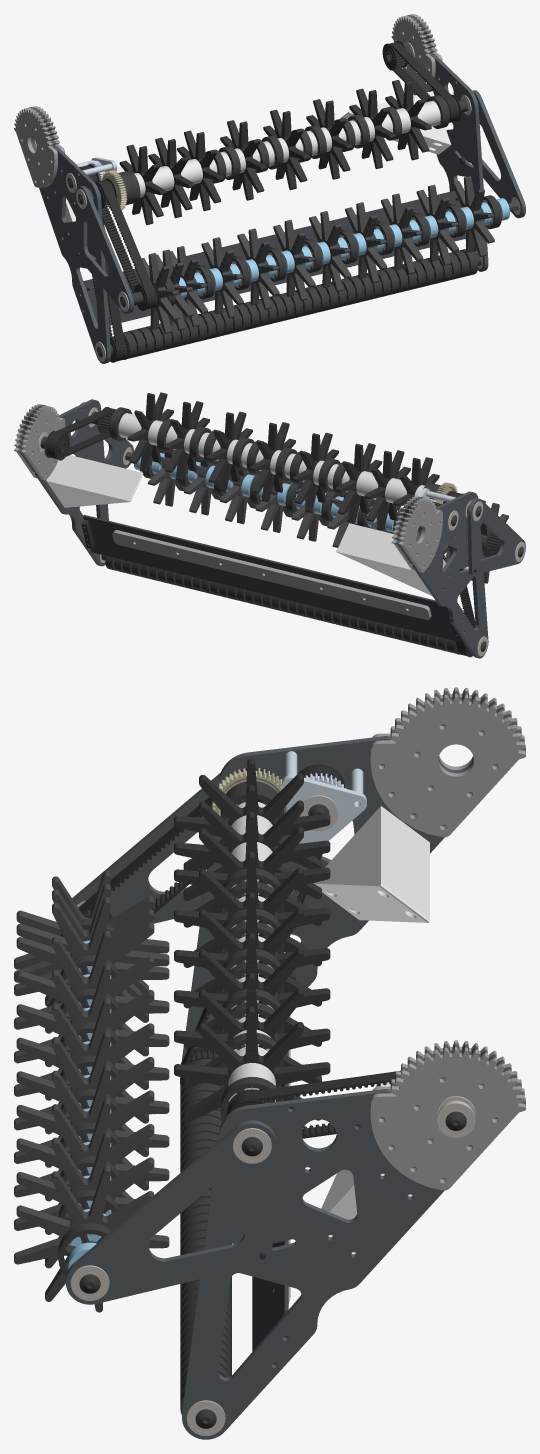
3 renders of one model, top to bottom at view 1: azimuth 30°, elevation 25°; view 2: azimuth 150°, elevation 25°; view 3: azimuth 270°, elevation 25°, orthographic. The views are drawn at different scales.
Parts seen in each view (by area): view 1: WCP-0406 (×11), 5" Star Flex Wheel (30A, 1/2" Hex Stretch Bore) (×8), 4322-IN-05-INNERPLATE (×2), 4322-IN-06-OUTERPLATE (×2), 4322-IN-01-OUTERGEAR (×2), 4322-IN-13-GUIDE, 95T 5M 15mm Wide Belt, 90T 5M 15mm Wide Belt, 130T 5M 15mm Wide Belt, 4322-IN-12-FUNNEL, 48t 20dp Aluminum 1/2" Hex Bore Pocketed Gear (WCP-0137), 24t Aluminum Pulley (HTD 5mm, 15mm Wide, 1/2" Hex Bore); view 2: 5" Star Flex Wheel (30A, 1/2" Hex Stretch Bore) (×8), 4322-IN-13-GUIDE, 4322-IN-05-INNERPLATE (×2), 4322-IN-12-FUNNEL (×2), WCP-0406 (×7), 4322-IN-14-GUIDE_SUPPORT, 4322-IN-01-OUTERGEAR (×4), 4322-IN-06-OUTERPLATE (×2), WCP-1284 Rev1 (×6), 90T 5M 15mm Wide Belt, 4322-IN-07-MIDDLE_GEAR (×2), 130T 5M 15mm Wide Belt (+1 smaller); view 3: 4322-IN-05-INNERPLATE (×2), WCP-0406 (×11), 5" Star Flex Wheel (30A, 1/2" Hex Stretch Bore) (×8), 4322-IN-01-OUTERGEAR (×2), 4322-IN-06-OUTERPLATE (×2), 4322-IN-12-FUNNEL (×2), 90T 5M 15mm Wide Belt, 4322-IN-08-TRIANGULAR_SUPPORT, 4322-IN-13-GUIDE, 95T 5M 15mm Wide Belt, WCP-1284 Rev1, Thunderhex ID 1.125 OD Flanged Bearing (217-4006) (+2 smaller).
Part boxes in pixels (x1,y1,x2,y2): WCP-0406 (×11): [137, 176, 494, 333]; 5" Star Flex Wheel (30A, 1/2" Hex Stretch Bore) (×8): [119, 80, 431, 224]; 4322-IN-05-INNERPLATE (×2): [39, 54, 488, 363]; 4322-IN-06-OUTERPLATE (×2): [75, 90, 525, 313]; 4322-IN-01-OUTERGEAR (×2): [14, 16, 435, 187]; 4322-IN-13-GUIDE: [83, 190, 465, 325]; 95T 5M 15mm Wide Belt: [98, 180, 156, 309]; 90T 5M 15mm Wide Belt: [388, 42, 459, 122]; 130T 5M 15mm Wide Belt: [80, 165, 125, 361]; 4322-IN-12-FUNNEL: [340, 91, 451, 154]; 48t 20dp Aluminum 1/2" Hex Bore Pocketed Gear (WCP-0137): [101, 170, 127, 210]; 24t Aluminum Pulley (HTD 5mm, 15mm Wide, 1/2" Hex Bore): [382, 41, 407, 70]; 5" Star Flex Wheel (30A, 1/2" Hex Stretch Bore) (×8): [127, 392, 439, 530]; 4322-IN-13-GUIDE: [83, 514, 464, 642]; 4322-IN-05-INNERPLATE (×2): [35, 399, 488, 658]; 4322-IN-12-FUNNEL (×2): [46, 455, 446, 595]; WCP-0406 (×7): [148, 450, 508, 583]; 4322-IN-14-GUIDE_SUPPORT: [112, 530, 431, 620]; 4322-IN-01-OUTERGEAR (×4): [14, 404, 442, 572]; 4322-IN-06-OUTERPLATE (×2): [75, 402, 525, 575]; WCP-1284 Rev1 (×6): [109, 407, 343, 522]; 90T 5M 15mm Wide Belt: [46, 407, 115, 459]; 4322-IN-07-MIDDLE_GEAR (×2): [17, 405, 424, 564]; 130T 5M 15mm Wide Belt: [434, 503, 475, 655]; 4322-IN-05-INNERPLATE (×2): [182, 736, 445, 1439]; WCP-0406 (×11): [14, 870, 169, 1312]; 5" Star Flex Wheel (30A, 1/2" Hex Stretch Bore) (×8): [174, 758, 330, 1122]; 4322-IN-01-OUTERGEAR (×2): [370, 694, 525, 1190]; 4322-IN-06-OUTERPLATE (×2): [66, 772, 276, 1304]; 4322-IN-12-FUNNEL (×2): [313, 806, 429, 1254]; 90T 5M 15mm Wide Belt: [227, 1070, 400, 1138]; 4322-IN-08-TRIANGULAR_SUPPORT: [282, 774, 366, 843]; 4322-IN-13-GUIDE: [252, 992, 288, 1351]; 95T 5M 15mm Wide Belt: [78, 769, 265, 915]; WCP-1284 Rev1: [58, 1223, 111, 1276]; Thunderhex ID 1.125 OD Flanged Bearing (217-4006): [436, 1100, 475, 1138].
Size of the model in its own units: 0.7163 by 0.3483 by 0.4095.
